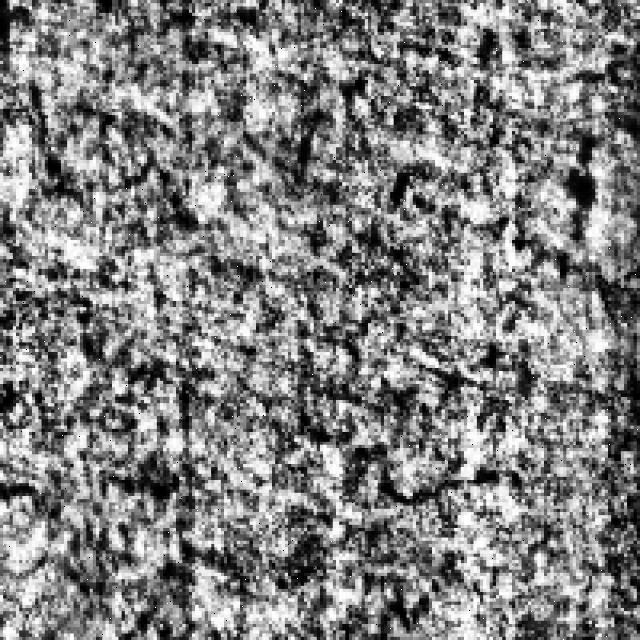Pitted_Surface: (378, 458, 560, 630)
